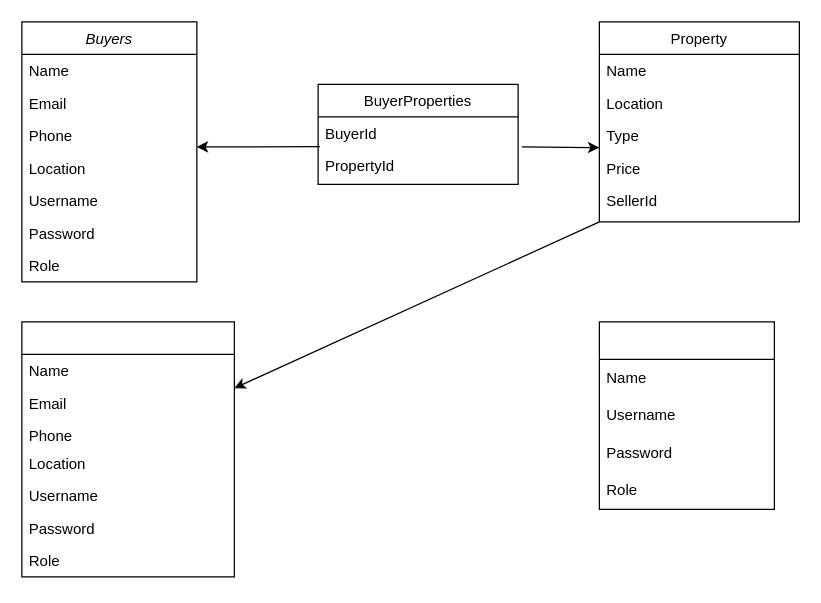
The diagram is 821 pixels wide and 603 high, and some of its shapes have lost their labels. The shapes that lost their labels are listed below. From the top down, each one's box as (x1, y1, x2, y2) in pixels, then its label:
(598, 321, 774, 509): Admin
(21, 321, 234, 577): Sellers
